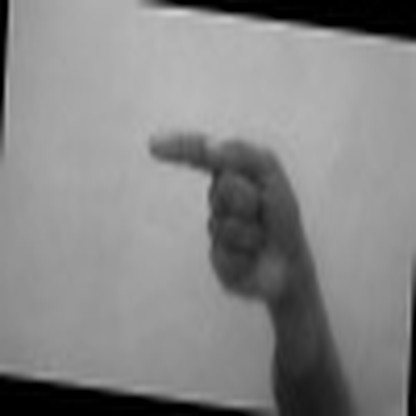g: (133, 111, 336, 300)
